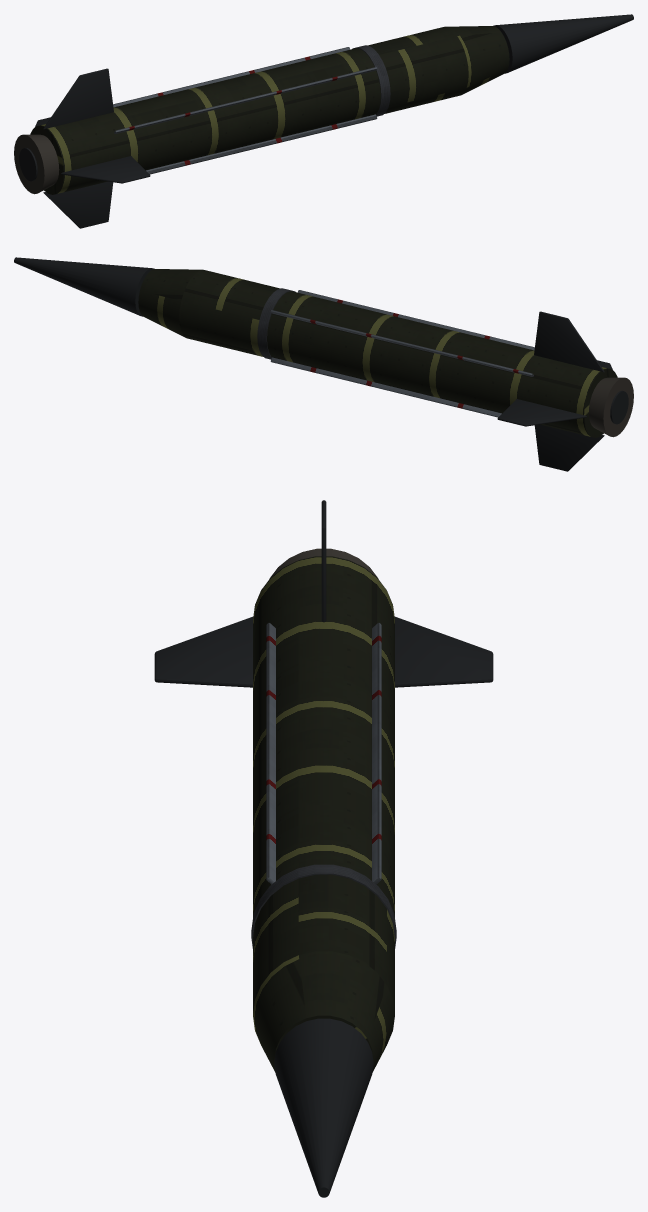
Rendered from mun_tbm.glb.
3 views of the same model, one above another, from view 1: azimuth 30°, elevation 25°; view 2: azimuth 150°, elevation 25°; view 3: azimuth 270°, elevation 25° (orthographic). The views are drawn at different scales.
Parts seen in each view (by area): view 1: mun_tbm; view 2: mun_tbm; view 3: mun_tbm.
Part boxes in pixels (x1,y1,x2,y2): mun_tbm: (14,14,633,228); mun_tbm: (14,257,633,471); mun_tbm: (154,500,493,1197).
Bounding box in the file's own units: 3.93 × 0.952 × 0.952.
Materials: 5 (3 with a texture image).
